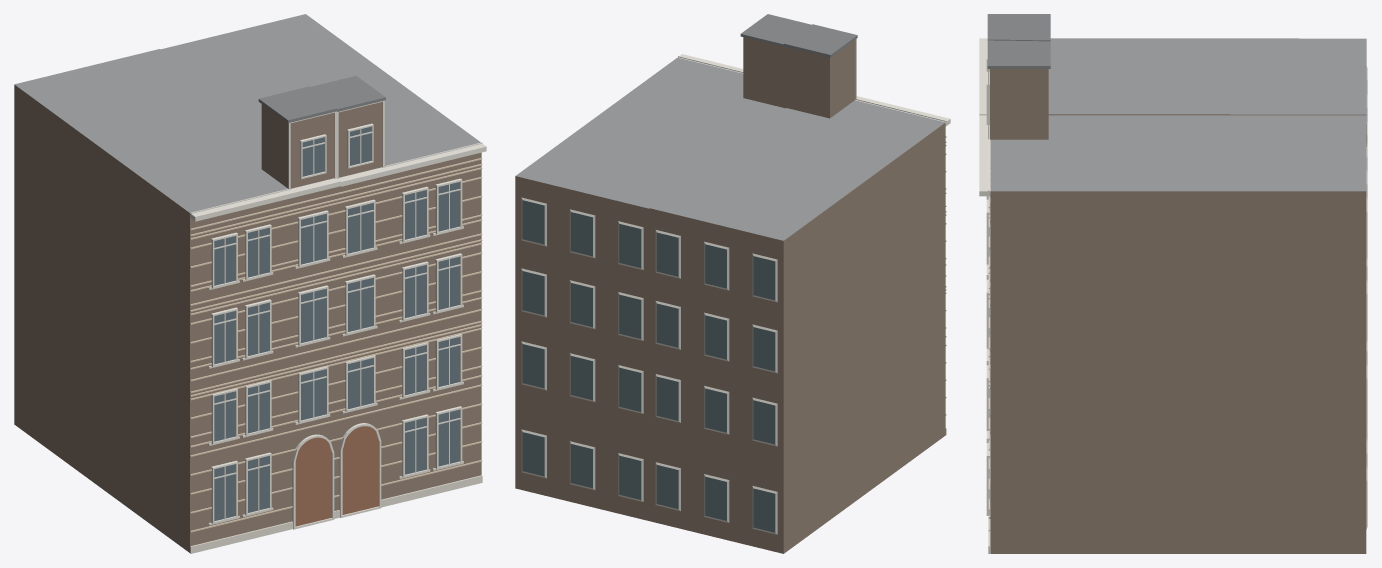
The model's file is chunk-face-sarphati-195-213-r1.glb.
3 views of the same model, side by side, from view 1: azimuth 30°, elevation 25°; view 2: azimuth 150°, elevation 25°; view 3: azimuth 270°, elevation 25° (orthographic). The views are drawn at different scales.
Parts seen in each view (by area): view 1: face-sarphati-195-213-r1; view 2: face-sarphati-195-213-r1; view 3: face-sarphati-195-213-r1.
Boxes of the visible parts, x1,y1,x2,y2 form: face-sarphati-195-213-r1: (14, 14, 486, 553); face-sarphati-195-213-r1: (515, 14, 950, 553); face-sarphati-195-213-r1: (979, 14, 1367, 553).
Size of the model in its own units: 12.93 by 17.38 by 13.95.
